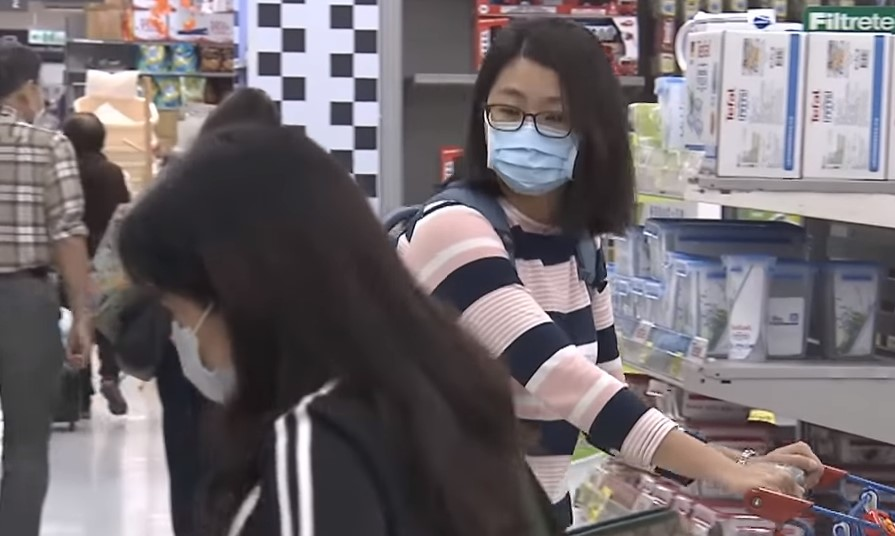face_with_mask: (134, 120, 364, 408), (478, 18, 620, 202)
